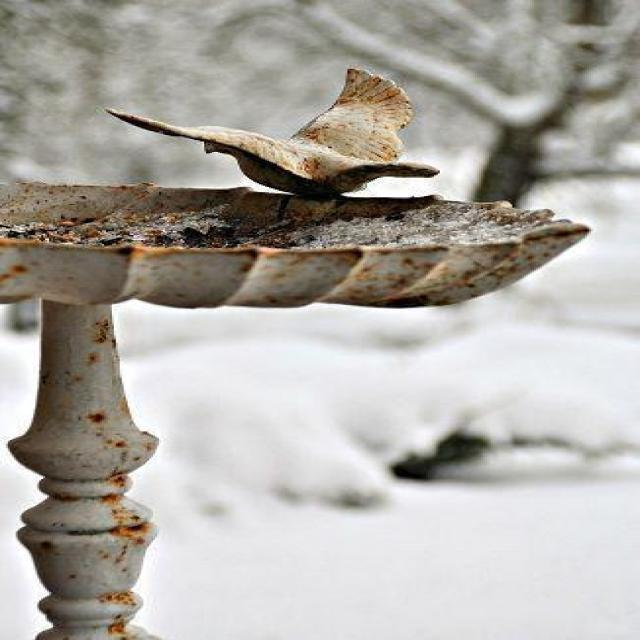Corrosion: (1, 65, 591, 637), (103, 65, 440, 198)
